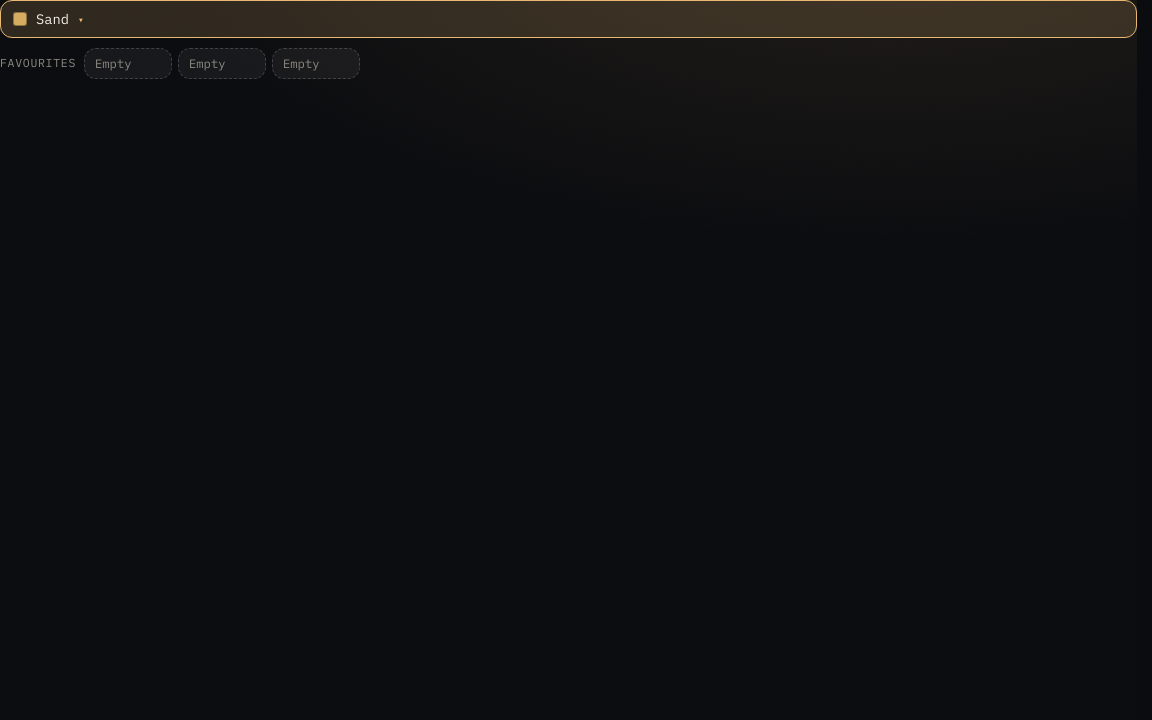
Test: Palette on a phone › picks a material and closes, since that is what you came for
This screenshot has width=1152, height=720.
Click the button with aria-label "Change material" at (53, 19), box [0,0,1137,38]
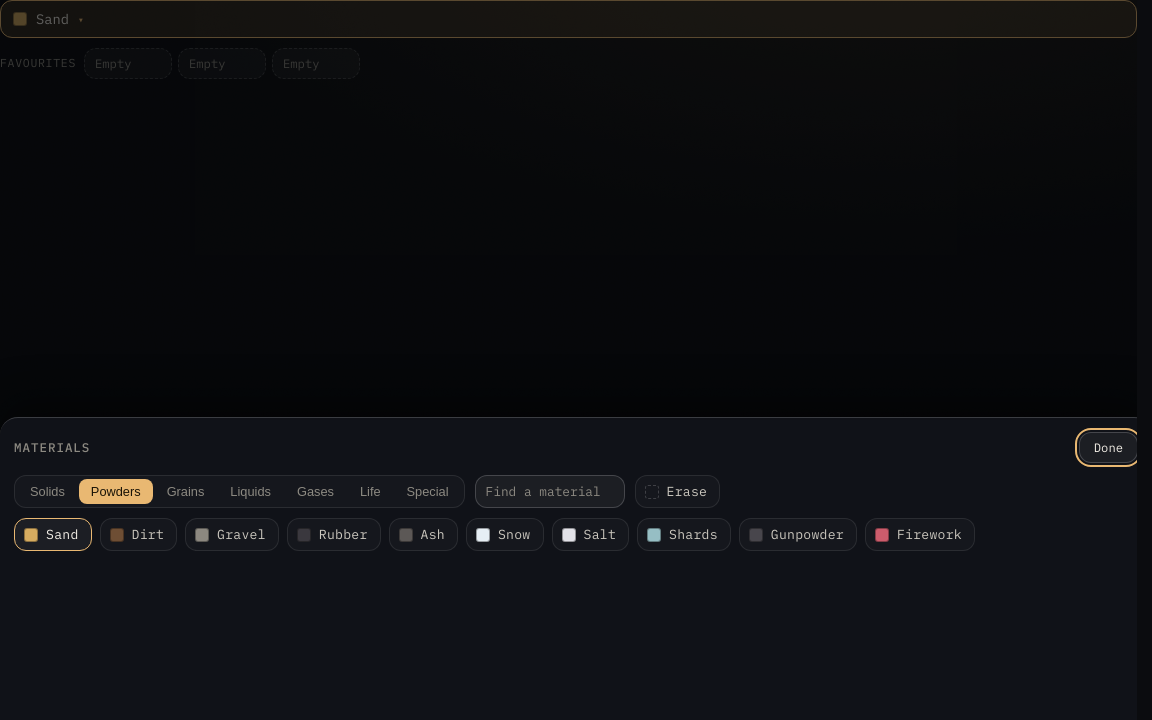
Click the button "Dirt" at (138, 534), box [100,518,177,551]
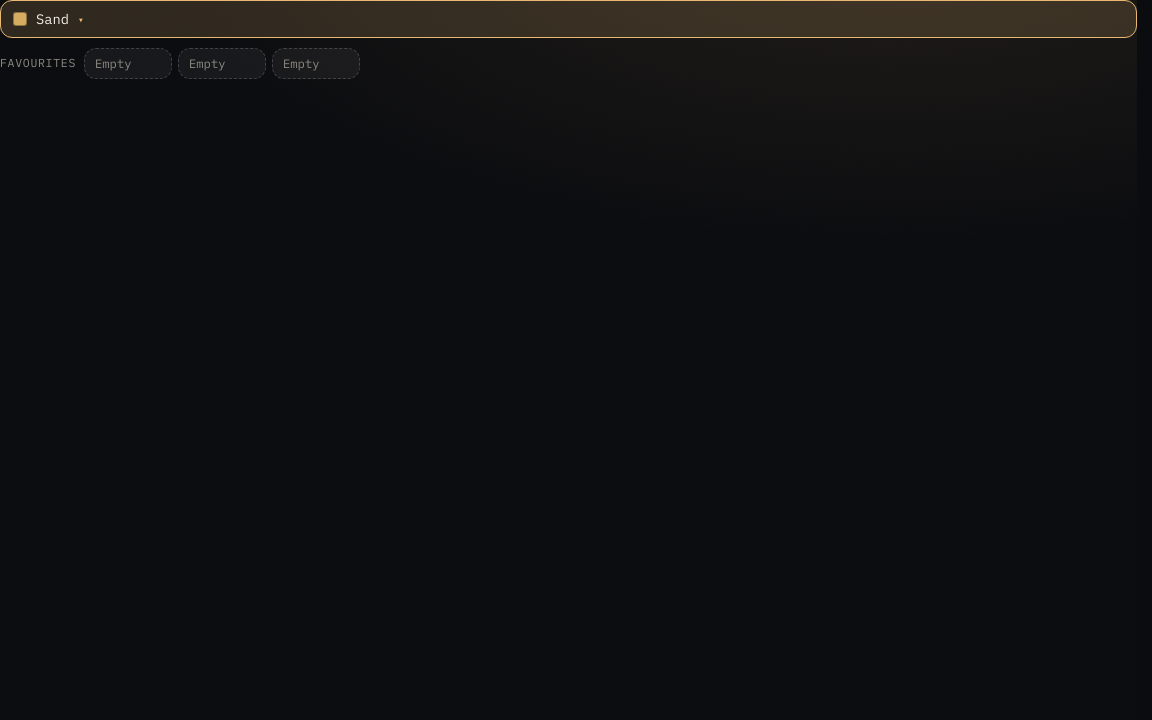
expect the dialog is gone: met
